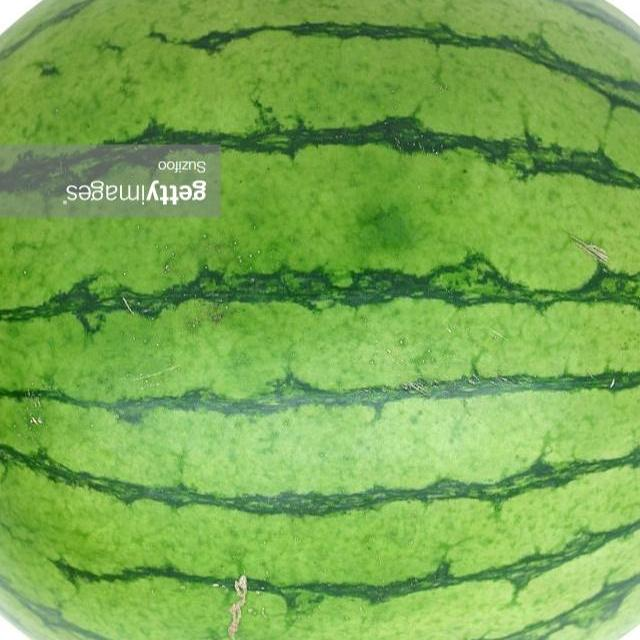watermelon: (0, 233, 640, 640)
